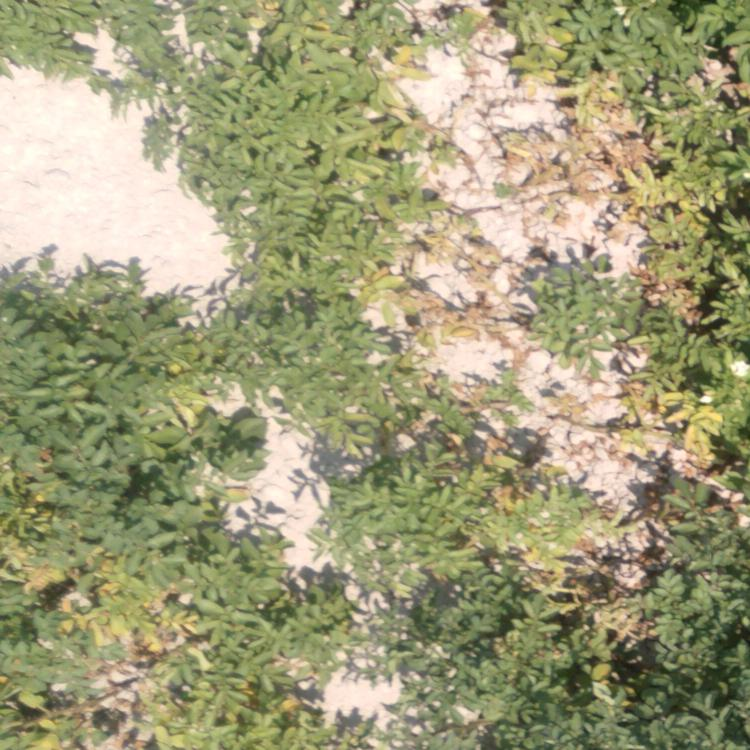healthy: (423, 612, 750, 747), (1, 264, 216, 469), (225, 330, 459, 433), (173, 8, 281, 214), (233, 532, 329, 750), (1, 1, 168, 89), (640, 497, 750, 601)
stressed: (283, 1, 486, 319), (1, 480, 215, 750), (342, 458, 605, 594), (584, 279, 750, 481), (588, 100, 743, 266), (500, 1, 749, 89)
